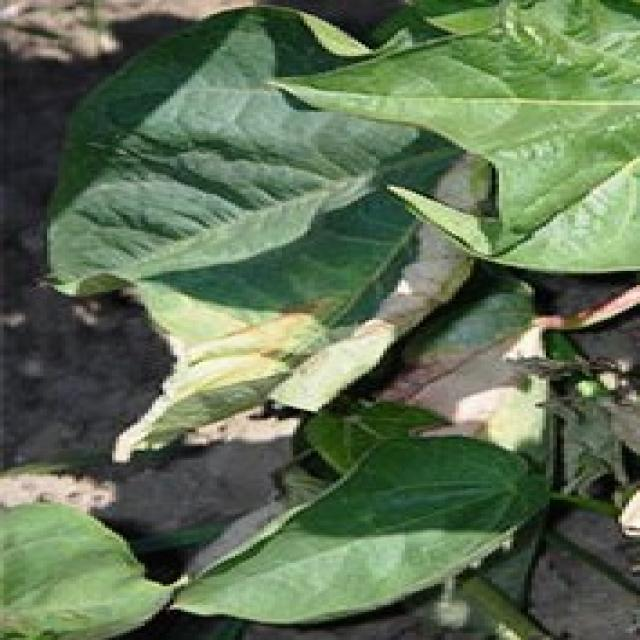Fusarium Wilt: (54, 1, 640, 640)
